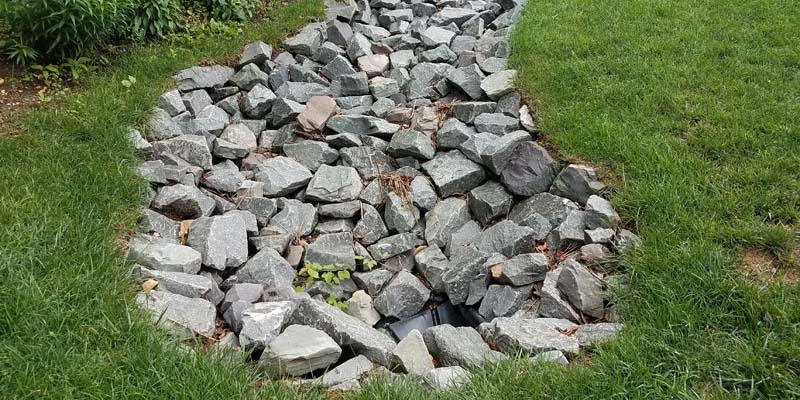grass: (521, 4, 796, 201), (1, 94, 140, 399), (624, 204, 799, 394)
rock: (130, 60, 640, 387), (239, 3, 520, 94)
